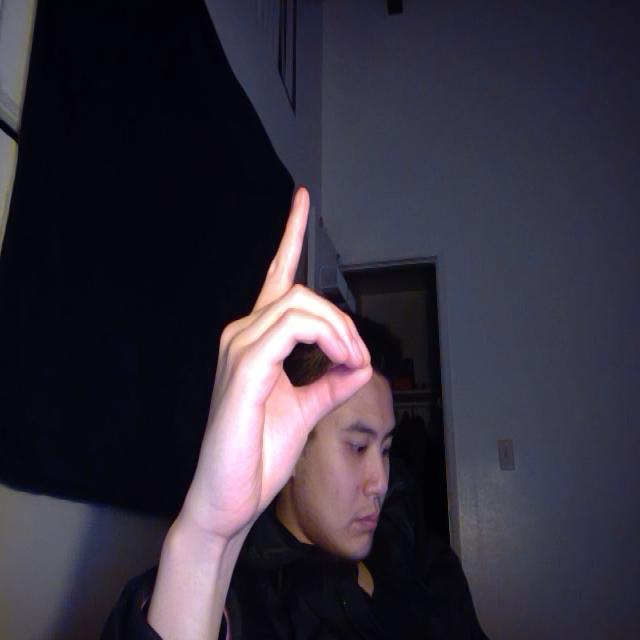D: (170, 137, 380, 554)
